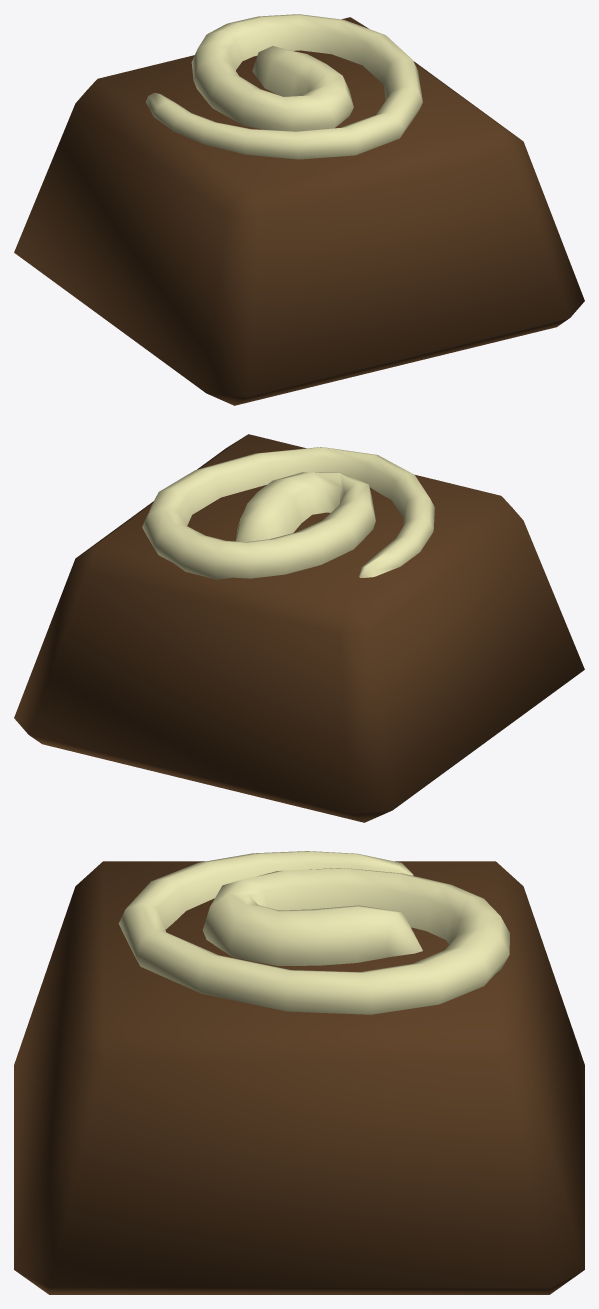
Rendered from Chocolate.fbx.
3 views of the same model, one above another, from view 1: azimuth 30°, elevation 25°; view 2: azimuth 150°, elevation 25°; view 3: azimuth 270°, elevation 25° (orthographic). The views are drawn at different scales.
Parts seen in each view (by area): view 1: chocolate, Candies_0001:pCylinder5; view 2: chocolate, Candies_0001:pCylinder5; view 3: chocolate, Candies_0001:pCylinder5.
Boxes of the visible parts, left/top/right/bottom form: chocolate: left=14, top=17, right=584, bottom=405; Candies_0001:pCylinder5: left=146, top=14, right=422, bottom=159; chocolate: left=14, top=434, right=584, bottom=822; Candies_0001:pCylinder5: left=142, top=447, right=434, bottom=579; chocolate: left=14, top=861, right=584, bottom=1294; Candies_0001:pCylinder5: left=118, top=851, right=509, bottom=1014.
Size of the model in its own units: 0.8844 by 0.5037 by 0.8878.
